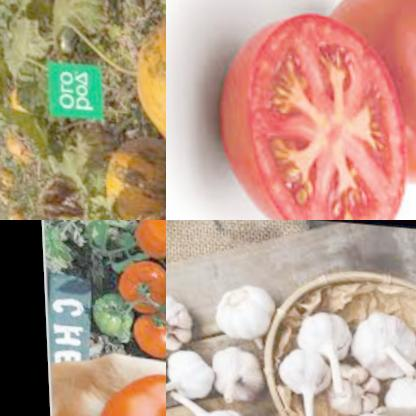garlic: (346, 304, 416, 383), (210, 267, 279, 341), (318, 347, 384, 416), (200, 337, 258, 409), (291, 306, 352, 366), (278, 341, 332, 406), (166, 345, 221, 404), (166, 281, 198, 359), (374, 369, 416, 416), (187, 399, 253, 416)
pumpkin: (99, 123, 166, 220), (127, 0, 166, 156), (0, 114, 28, 220)
tomato: (205, 1, 411, 220), (321, 0, 416, 185), (102, 248, 166, 315), (82, 283, 140, 337), (122, 304, 166, 360), (126, 220, 166, 267)
